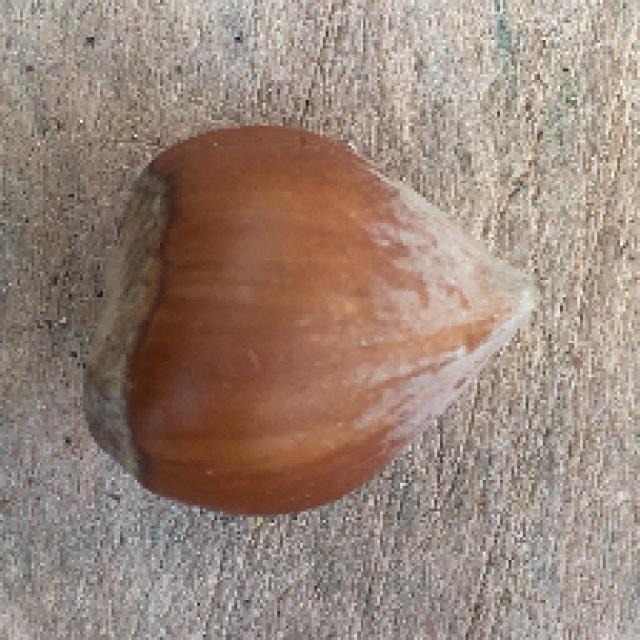QualityHazelnut: (85, 124, 548, 520)
